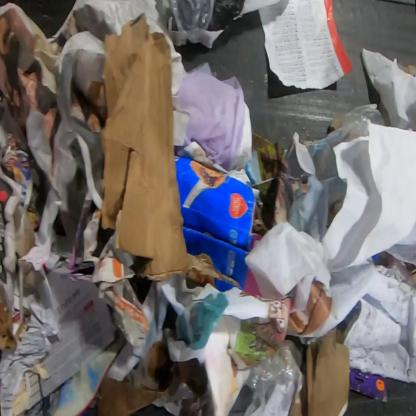cardboard: (99, 13, 186, 282), (174, 155, 260, 292), (305, 326, 350, 415), (349, 367, 389, 403), (288, 384, 308, 415)
rigid_plastic: (169, 0, 216, 41)
soft_plastic: (178, 63, 245, 172), (245, 339, 302, 397), (342, 103, 386, 142)
